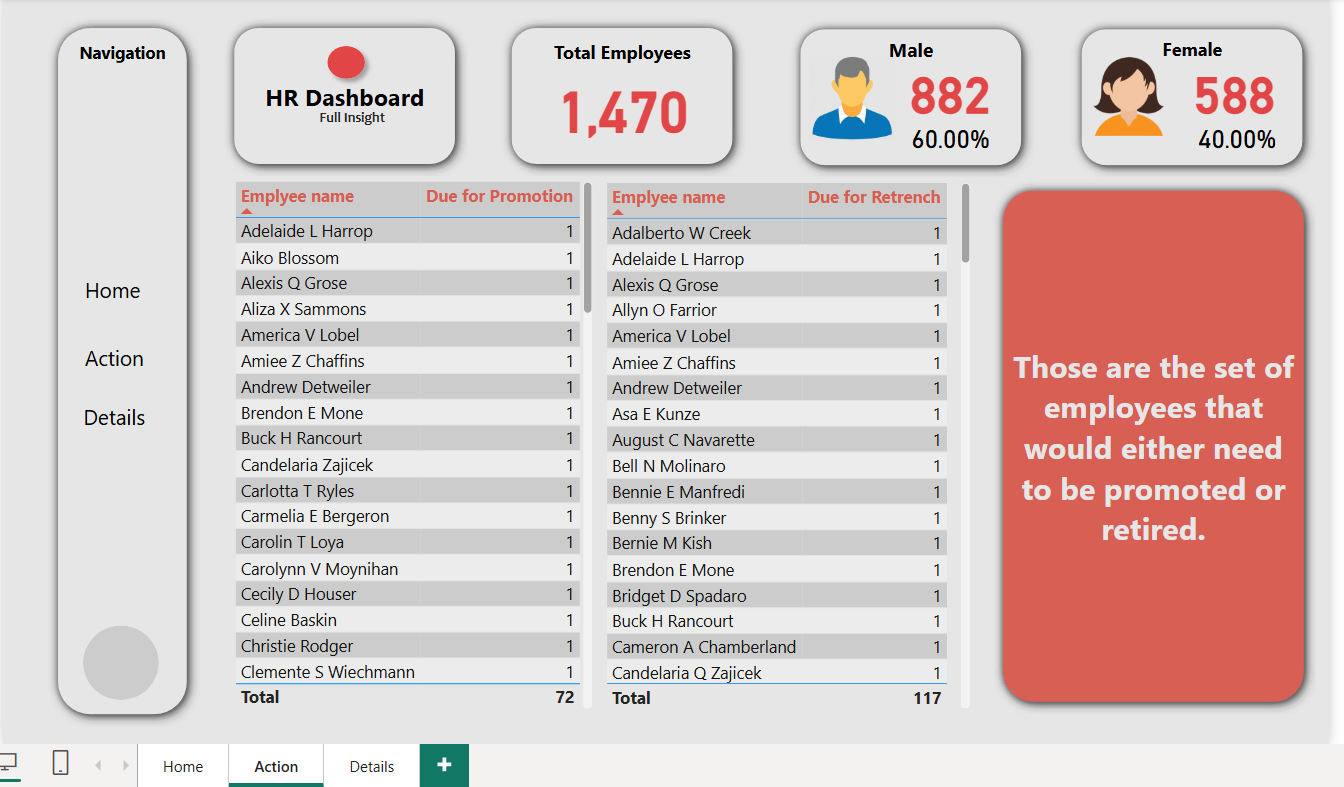

The dashboard page shown, as its layout file describes it:
{"tool":"powerbi","page":{"name":"Action","canvas":[1280,720],"ordinal":1},"visuals":[{"type":"shape","box":[41.4,17.1,148.4,686.5],"z":0},{"type":"shape","box":[211.1,16.9,237.6,155.6],"z":1000},{"type":"shape","box":[478.8,16.9,237.6,155.6],"z":2000},{"type":"shape","box":[1028.7,18.1,237.6,155.6],"z":3000},{"type":"shape","box":[757.4,18.1,237.6,155.6],"z":4000},{"type":"shape","box":[303.9,37.4,54.3,49.4],"z":5000},{"type":"card","fields":{"Values":["Measures (2).total emp"]},"box":[495.7,62.7,205,82],"z":6000},{"type":"card","fields":{"Values":["Measures (2).Male"]},"box":[865,57.5,98.8,61.2],"z":7000},{"type":"card","fields":{"Values":["Measures (2).% Male"]},"box":[863.8,116.2,101.2,40],"z":8000},{"type":"card","fields":{"Values":["Measures (2).Female"]},"box":[1138.8,58.8,97.5,58.8],"z":9000},{"type":"card","fields":{"Values":["Measures (2).% Female"]},"box":[1147.5,118.8,87.5,35],"z":10000},{"type":"image","box":[773.1,47,92.9,98.9],"z":11000},{"type":"image","box":[1043.2,48.2,85.6,94.1],"z":12000},{"type":"tableEx","fields":{"Values":["HR employee data.Emplyee name","Measures (2).due for"]},"box":[218.3,172.5,355.8,518.6],"z":13000},{"type":"tableEx","fields":{"Values":["HR employee data.Emplyee name","Measures (2).Retreanch"]},"box":[576.5,173.7,361.8,517.4],"z":14000},{"type":"shape","box":[952.8,173.7,314.8,517.4],"z":15000},{"type":"actionButton","box":[65.7,261.5,81.2,38.9],"z":16000},{"type":"actionButton","box":[66.3,326.8,82,38.6],"z":17000},{"type":"actionButton","box":[66.3,383.5,82,38.6],"z":18000},{"type":"shape","box":[77.2,605.4,73.6,72.4],"z":19000},{"type":"textbox","box":[300,100.2,82.3,35.6],"z":20000}]}

Visuals, with their boxes on the page's 1280x720 design canvas (x1, y1, x2, y2). These are canvas units, not pixel positions in the 1344x787 screenshot, which may show the page scaled, cropped or inside an application window:
shape: select_region(41, 17, 190, 704)
shape: select_region(211, 17, 449, 172)
shape: select_region(479, 17, 716, 172)
shape: select_region(1029, 18, 1266, 174)
shape: select_region(757, 18, 995, 174)
shape: select_region(304, 37, 358, 87)
card - Measures (2).total emp: select_region(496, 63, 701, 145)
card - Measures (2).Male: select_region(865, 58, 964, 119)
card - Measures (2).% Male: select_region(864, 116, 965, 156)
card - Measures (2).Female: select_region(1139, 59, 1236, 118)
card - Measures (2).% Female: select_region(1148, 119, 1235, 154)
image: select_region(773, 47, 866, 146)
image: select_region(1043, 48, 1129, 142)
tableEx - HR employee data.Emplyee name x Measures (2).due for: select_region(218, 172, 574, 691)
tableEx - HR employee data.Emplyee name x Measures (2).Retreanch: select_region(576, 174, 938, 691)
shape: select_region(953, 174, 1268, 691)
actionButton: select_region(66, 262, 147, 300)
actionButton: select_region(66, 327, 148, 365)
actionButton: select_region(66, 384, 148, 422)
shape: select_region(77, 605, 151, 678)
textbox: select_region(300, 100, 382, 136)
